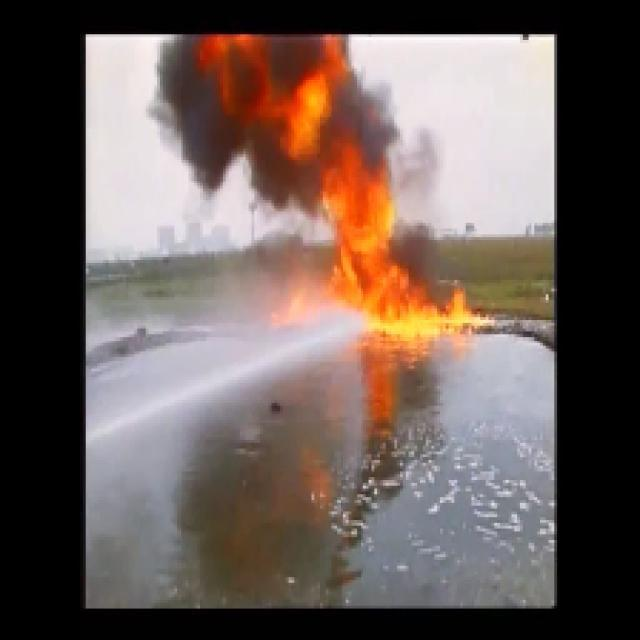Fire: (328, 175, 414, 329)
Smoke: (156, 44, 382, 148)
